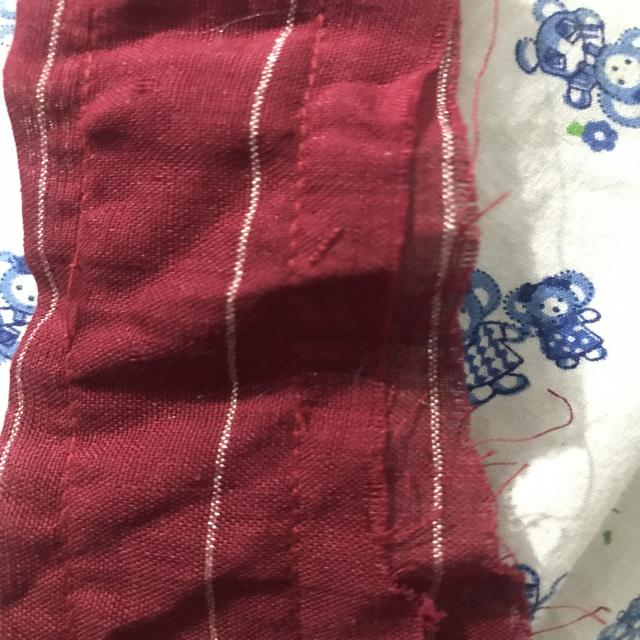skip: (50, 238, 100, 351)
